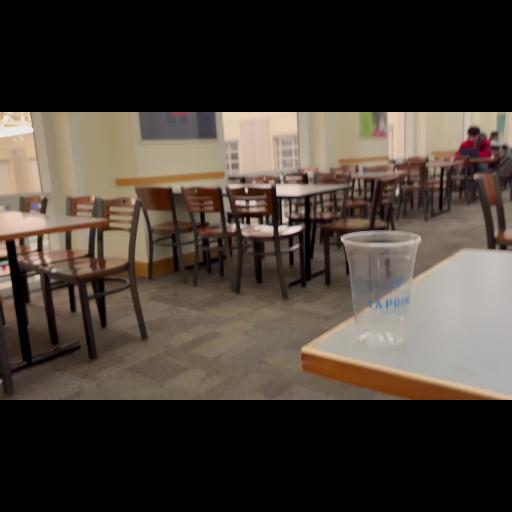lp_plastic_cup: (336, 226, 434, 368)
